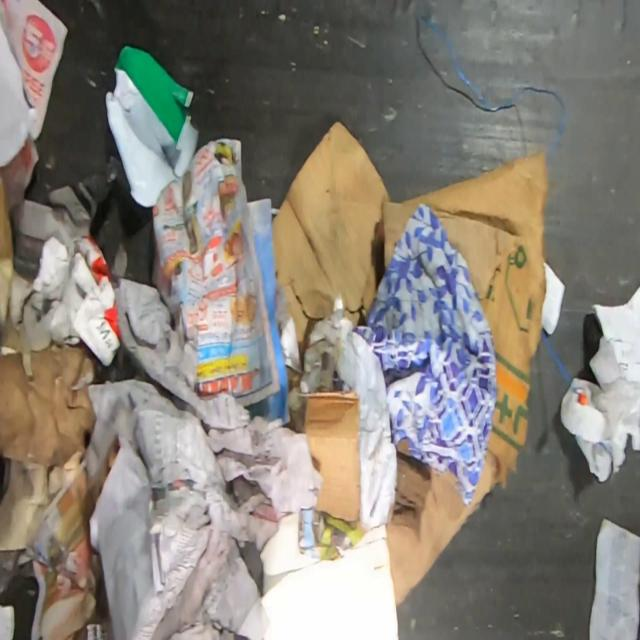cardboard: (266, 121, 552, 609), (0, 338, 98, 469), (286, 383, 360, 521)
rigid_plastic: (102, 44, 200, 209)
